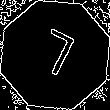L_SW: (30, 26, 80, 84)
